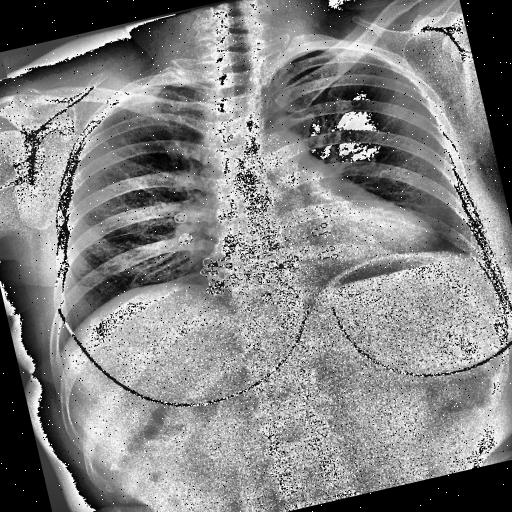3- Cardiomegaly: (208, 180, 438, 308), (200, 188, 442, 300), (199, 210, 446, 310)
8- Nodule-Mass: (62, 282, 111, 322)
